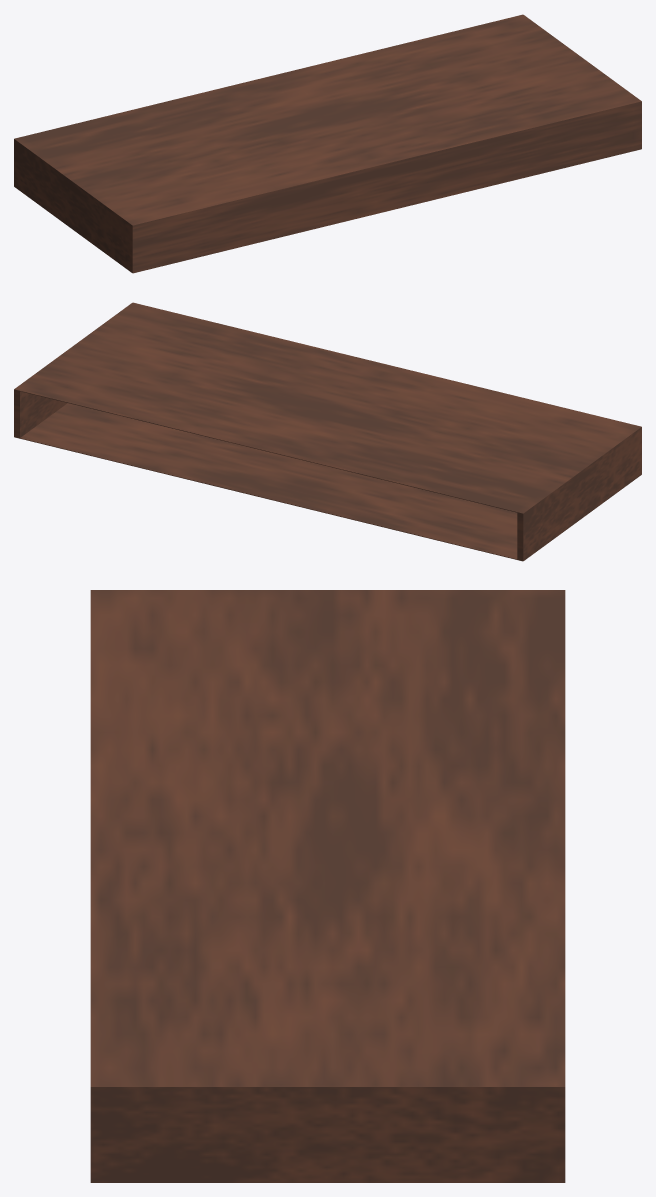
File: Elevator Outside.fbx
3 views of the same model, one above another, from view 1: azimuth 30°, elevation 25°; view 2: azimuth 150°, elevation 25°; view 3: azimuth 270°, elevation 25° (orthographic). The views are drawn at different scales.
Visible parts, largest first — view 1: LevelRoom; view 2: LevelRoom; view 3: LevelRoom.
Boxes of the visible parts, x1,y1,x2,y2 form: LevelRoom: [14, 14, 641, 273]; LevelRoom: [14, 302, 641, 561]; LevelRoom: [90, 590, 565, 1182].
Bounding box in the file's own units: 3279 × 295 × 1323.
